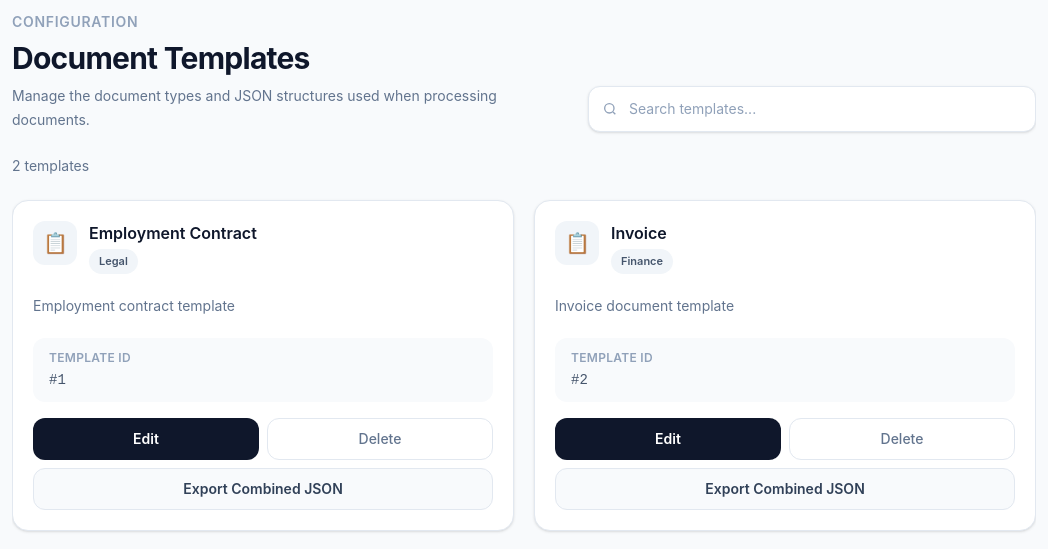
Test: DocumentTypeList › searches by domain
Check: the heading "Employment Contract" is shown, box [89, 223, 257, 243]
Type "finance" into the field with placeholder "Search templates..." at (812, 109), box [588, 86, 1036, 132]
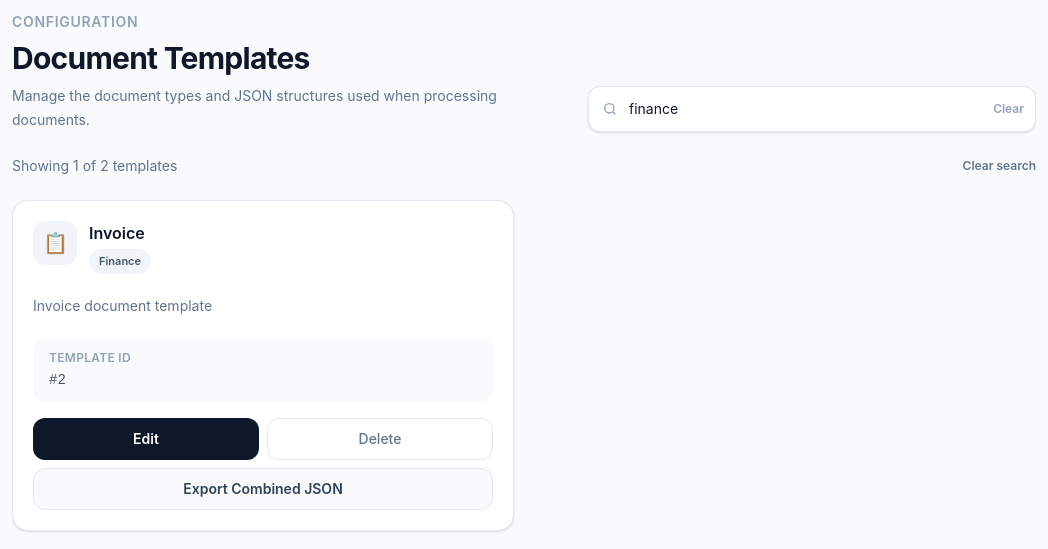
Check: the heading "Invoice" is shown, box [89, 223, 145, 243]
Check: the heading "Employment Contract" is gone
